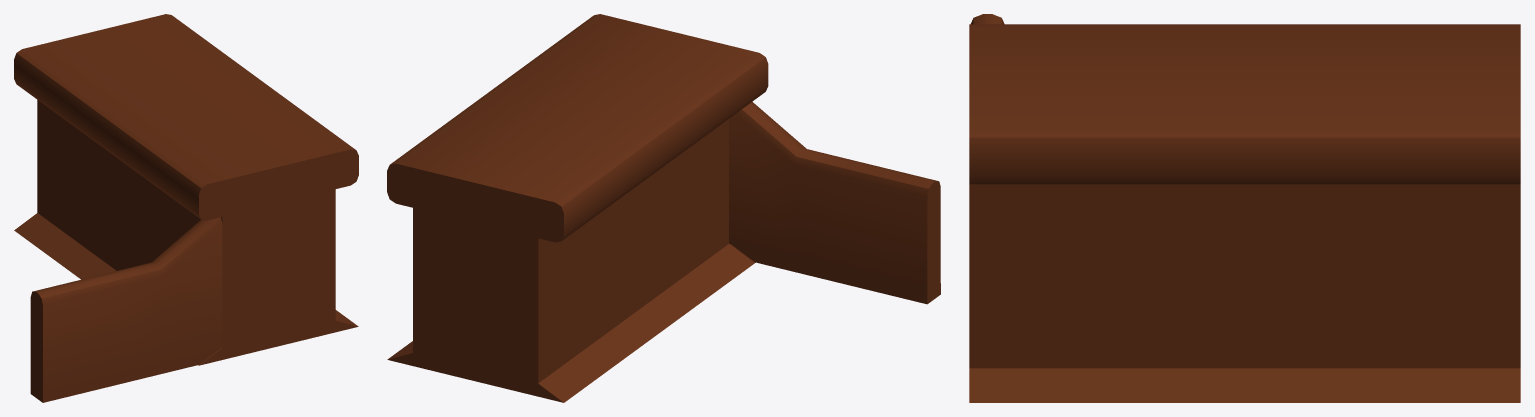
Rendered from barr1.fbx.
3 renders of one model, left to right at view 1: azimuth 30°, elevation 25°; view 2: azimuth 150°, elevation 25°; view 3: azimuth 270°, elevation 25°, orthographic. The views are drawn at different scales.
Parts seen in each view (by area): view 1: Cube.012, Cube.013; view 2: Cube.012, Cube.013; view 3: Cube.012.
Part boxes in pixels (x1=…): Cube.012: x1=14, y1=14, x2=358, y2=365; Cube.013: x1=30, y1=217, x2=222, y2=402; Cube.012: x1=387, y1=14, x2=768, y2=402; Cube.013: x1=729, y1=101, x2=940, y2=304; Cube.012: x1=969, y1=24, x2=1520, y2=402.
Bounding box in the file's own units: 395 × 214 × 400.
